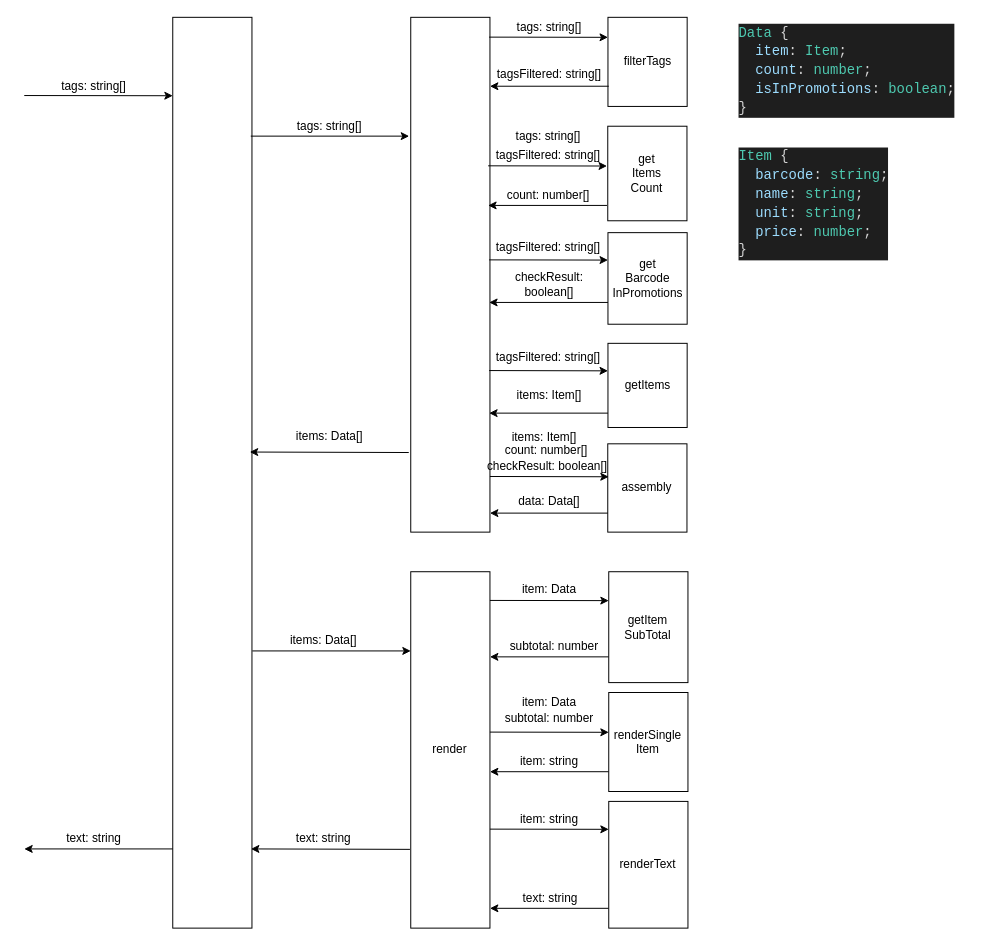
Some shapes in this 982 by 945 pixel diagram are drawn without their labels. Here are the shapes that lost their labels. From the top down, the box of each, then its label:
(410, 16, 490, 532): get Final Items
(172, 16, 252, 928): print Receipt
